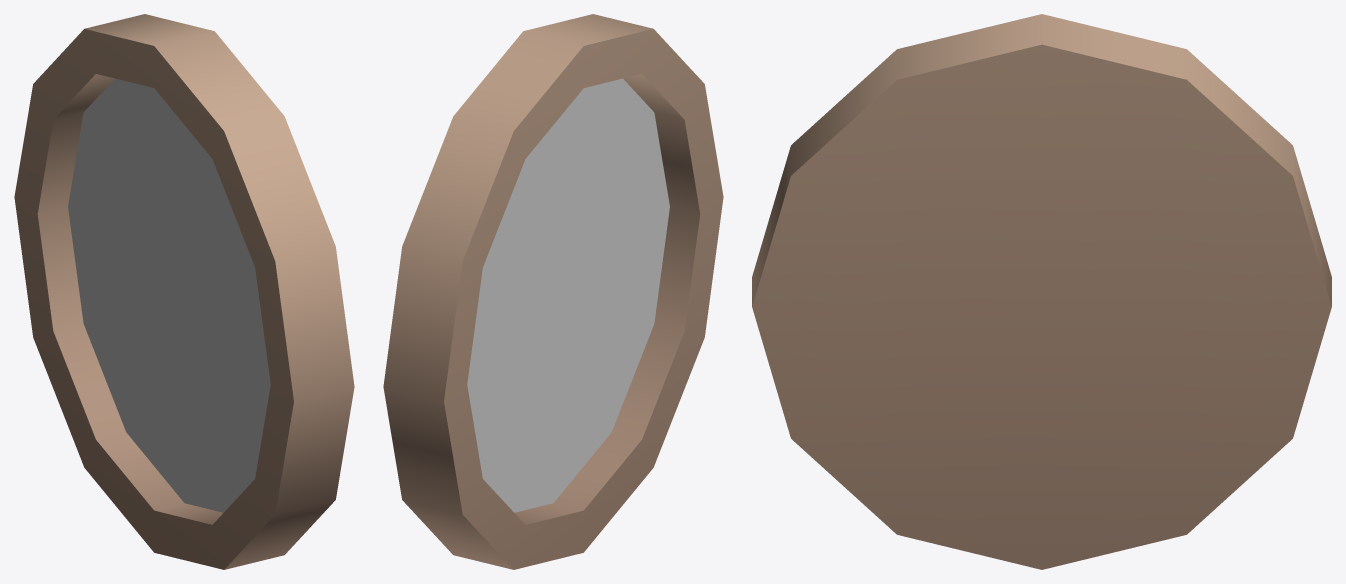
Rendered from art-frame-thin-round (%wall).glb.
3 views of the same model, side by side, from view 1: azimuth 30°, elevation 25°; view 2: azimuth 150°, elevation 25°; view 3: azimuth 270°, elevation 25° (orthographic). The views are drawn at different scales.
Visible parts, largest first — view 1: art-frame-thin-round (%wall); view 2: art-frame-thin-round (%wall); view 3: art-frame-thin-round (%wall).
Boxes of the visible parts, bbox=[...] form: art-frame-thin-round (%wall): bbox=[14, 14, 354, 569]; art-frame-thin-round (%wall): bbox=[383, 14, 723, 569]; art-frame-thin-round (%wall): bbox=[752, 14, 1331, 569].
Bounding box in the file's own units: 0.075 × 0.5999 × 0.5999.
